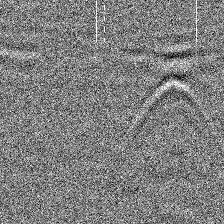Utility: (127, 67, 215, 143)
